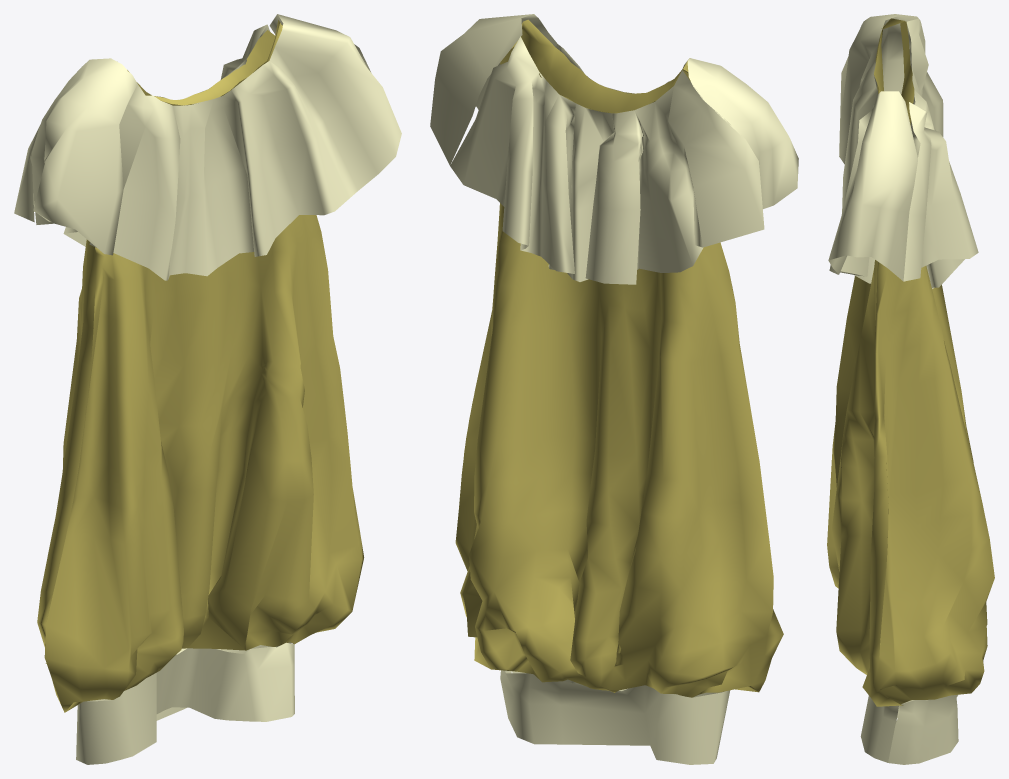
Rendered from Dress05.fbx.
The picture shows the model from 3 angles, left to right: view 1: azimuth 30°, elevation 25°; view 2: azimuth 150°, elevation 25°; view 3: azimuth 270°, elevation 25°; orthographic projection. The views are drawn at different scales.
Visible parts, largest first — view 1: Dress05; view 2: Dress05; view 3: Dress05.
Part boxes in pixels (box(x1,y1,x2,y2)): Dress05: box(14, 14, 401, 764); Dress05: box(430, 14, 798, 764); Dress05: box(827, 14, 994, 764).
Bounding box in the file's own units: 53.79 × 100 × 22.69.
